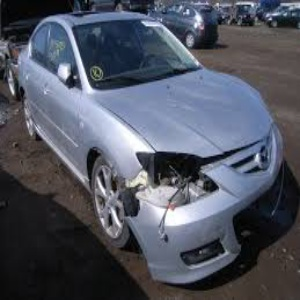bumper: (122, 187, 263, 285)
